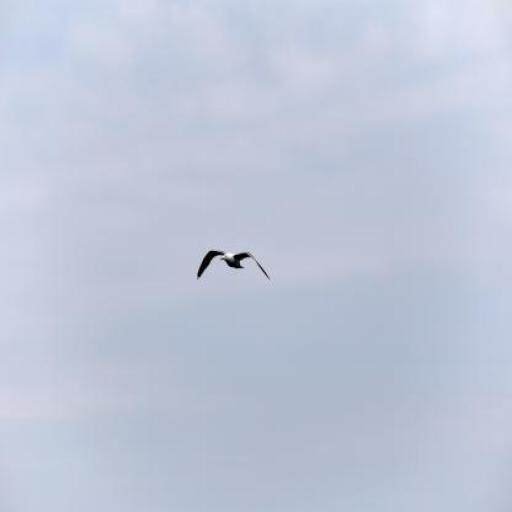bird: (196, 250, 270, 279)
